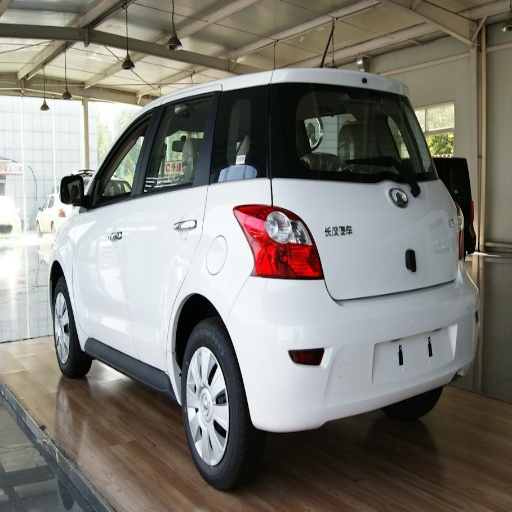back_bumper: (223, 277, 461, 432)
back_glass: (266, 86, 415, 178)
back_left_door: (124, 95, 214, 361)
hood: (411, 232, 455, 282)
tailgate: (303, 217, 392, 301)
trunk: (286, 182, 446, 299)
